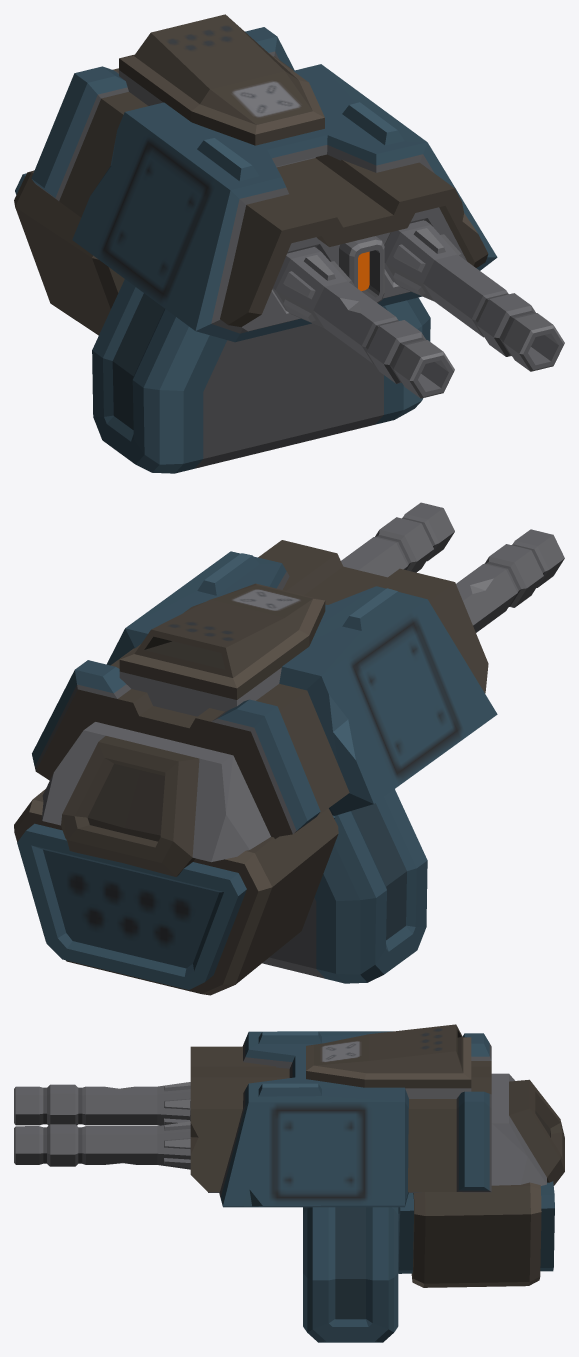
File: SM_Mech_Chest_01_Weapon_Collar_01.fbx
3 views of the same model, one above another, from view 1: azimuth 30°, elevation 25°; view 2: azimuth 150°, elevation 25°; view 3: azimuth 270°, elevation 25° (orthographic). The views are drawn at different scales.
Visible parts, largest first — view 1: SM_Mech_Chest_01_Weapon_Collar_01; view 2: SM_Mech_Chest_01_Weapon_Collar_01; view 3: SM_Mech_Chest_01_Weapon_Collar_01.
Boxes of the visible parts, left/top/right/bottom form: SM_Mech_Chest_01_Weapon_Collar_01: left=14, top=14, right=564, bottom=473; SM_Mech_Chest_01_Weapon_Collar_01: left=14, top=502, right=564, bottom=995; SM_Mech_Chest_01_Weapon_Collar_01: left=14, top=1024, right=564, bottom=1342.
Bounding box in the file's own units: 48.2 × 54 × 103.
